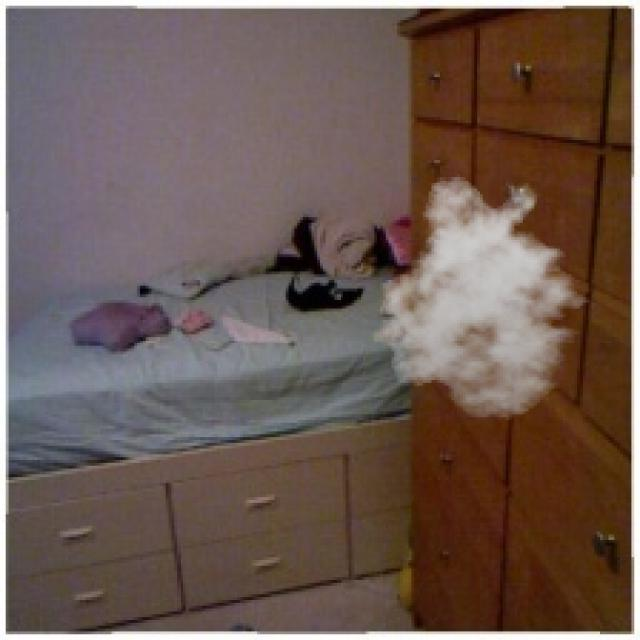smoke: (366, 174, 600, 420)
